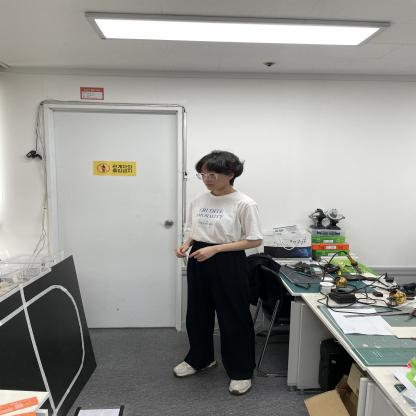normal: (170, 150, 266, 393)
